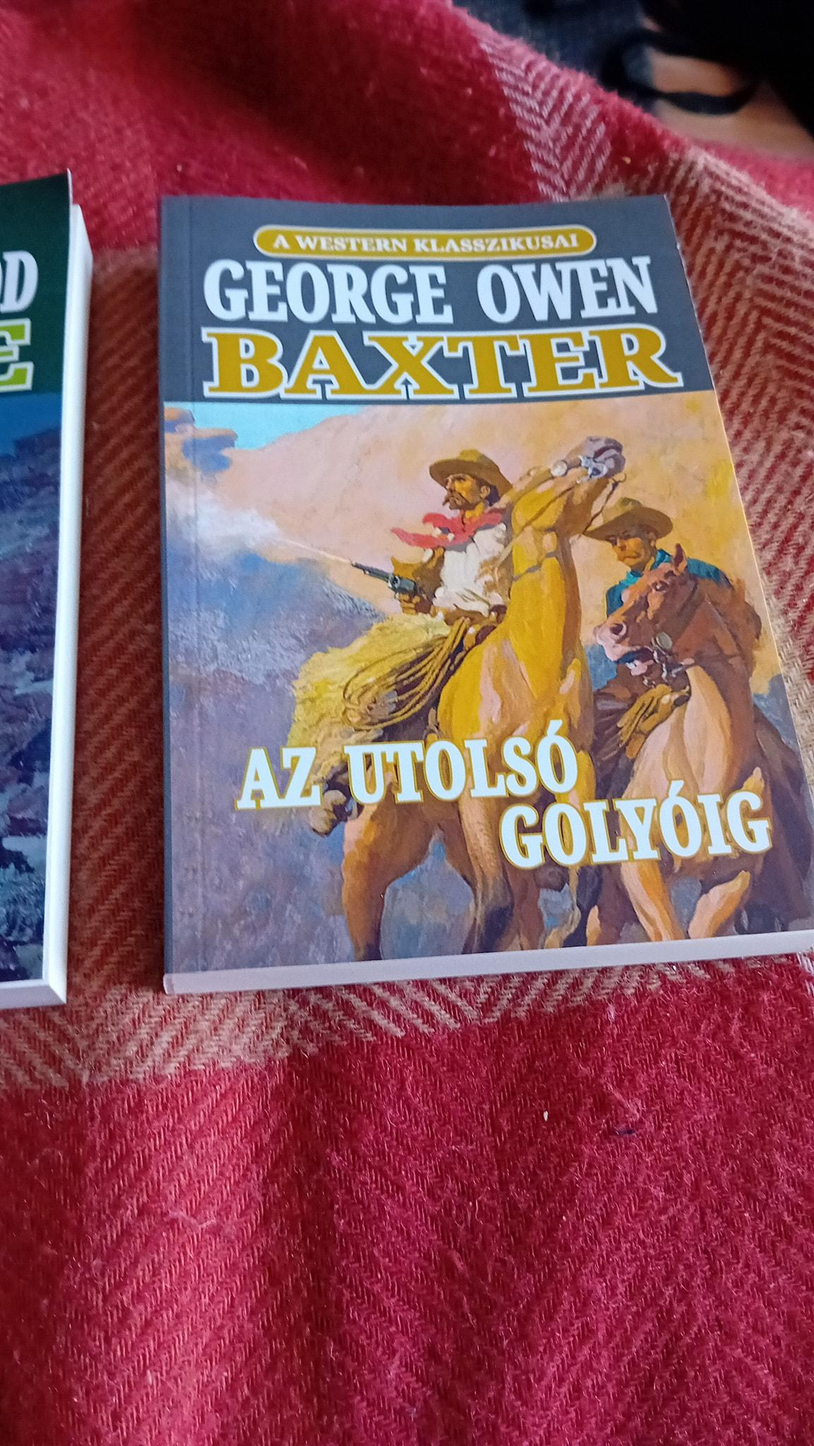comic: (159, 193, 814, 990)
